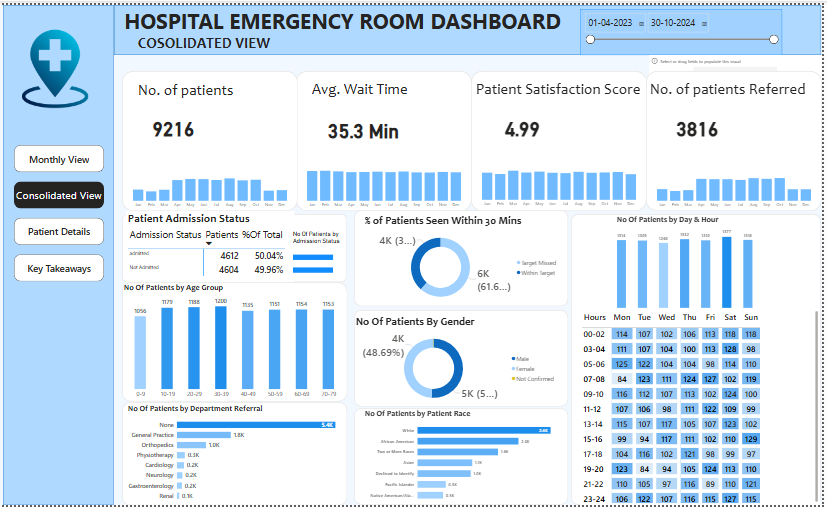

The page's visual inventory and layout, read from the dashboard file:
{"tool":"powerbi","page":{"name":"Consolidated View","canvas":[2300,1400],"ordinal":1},"visuals":[{"type":"shape","box":[9.1,0,310,1400.5],"z":0},{"type":"shape","box":[341.1,184.1,492,392.4],"z":0,"group":"g4"},{"type":"shape","box":[830.1,184.1,492,392.4],"z":0,"group":"g1"},{"type":"shape","box":[1319,184.1,492,392.4],"z":0,"group":"g2"},{"type":"shape","box":[1808,184.1,492,392.4],"z":0,"group":"g3"},{"type":"shape","box":[341.2,585.3,629.4,191.2],"z":0,"group":"g5"},{"type":"shape","box":[341.1,775.7,631.4,335.4],"z":0,"group":"g6"},{"type":"card","fields":{"Values":["Hospital ER_Data.No Of Patients"]},"box":[380.3,265.6,208.3,150.9],"z":1000,"group":"g4"},{"type":"card","fields":{"Values":["Hospital ER_Data.Satisfaction Score"]},"box":[1358.2,265.6,208.3,150.9],"z":1000,"group":"g2"},{"type":"card","fields":{"Values":["Hospital ER_Data.No of patients Referred"]},"box":[1847.2,265.6,208.3,150.9],"z":1000,"group":"g3"},{"type":"card","fields":{"Values":["Hospital ER_Data.Avg Wait Time"]},"box":[869.2,277.3,298.8,138.8],"z":1000,"group":"g1"},{"type":"shape","box":[1598.8,585.2,700,814.8],"z":1000},{"type":"shape","box":[319.9,0,1980.1,140],"z":2000},{"type":"textbox","box":[869.2,203.4,308,109.2],"z":2000,"group":"g1"},{"type":"textbox","box":[1328,204.9,489,84.5],"z":2000,"group":"g2"},{"type":"textbox","box":[1814,204.9,482.9,84.5],"z":2000,"group":"g3"},{"type":"textbox","box":[380.3,205.2,307.9,84.5],"z":2000,"group":"g4"},{"type":"textbox","box":[319.9,0,1279.8,90.6],"z":3000},{"type":"columnChart","fields":{"Y":["Hospital ER_Data.No Of Patients"],"Category":["Date Table.Month Name"]},"box":[353.2,440.7,470.9,135.8],"z":3000,"group":"g4"},{"type":"columnChart","fields":{"Y":["Avg(Hospital ER_Data.Patient Waittime)"],"Category":["Date Table.Month Name"]},"box":[842.2,440.7,470.9,135.8],"z":3000,"group":"g1"},{"type":"columnChart","fields":{"Category":["Date Table.Month Name"],"Y":["Hospital ER_Data.Satisfaction Score"]},"box":[1331.1,440.7,470.9,135.8],"z":3000,"group":"g2"},{"type":"columnChart","fields":{"Category":["Date Table.Month Name"],"Y":["Hospital ER_Data.No of patients Referred"]},"box":[1820.1,440.7,470.9,135.8],"z":3000,"group":"g3"},{"type":"textbox","box":[319.2,75.6,504,64.4],"z":4000},{"type":"slicer","fields":{"Values":["Date Table.Date"]},"box":[1624,11.2,565.6,128.8],"z":5000},{"type":"group","id":"g1","title":"Group 1","box":[830.1,184.1,492,392.4],"z":6000},{"type":"group","id":"g2","title":"Group 1","box":[1319,140,981,436.5],"z":7000},{"type":"group","id":"g3","title":"Group 1","box":[1808,184.1,492,392.4],"z":8000},{"type":"group","id":"g4","title":"Group 1","box":[341.1,184.1,492,392.4],"z":9000},{"type":"group","id":"g5","title":"Group 1","box":[341.2,585.3,629.4,191.2],"z":10000},{"type":"pivotTable","title":"Patient Admission Status","fields":{"Rows":["Hospital ER_Data.Admission Status"],"Values":["Hospital ER_Data.No Of Patients1","Hospital ER_Data.No Of Patients"]},"box":[352.9,576.5,470.6,200],"z":11000},{"type":"barChart","fields":{"Category":["Hospital ER_Data.Admission Status"],"Y":["Hospital ER_Data.No Of Patients"]},"box":[814.8,630,156.8,145.6],"z":12000},{"type":"group","id":"g6","title":"Group 1","box":[341.1,775.7,630.8,335],"z":13000},{"type":"clusteredColumnChart","fields":{"Category":["Hospital ER_Data.Age Group"],"Y":["Hospital ER_Data.No Of Patients"]},"box":[341.1,775.7,630.8,335],"z":14000},{"type":"shape","box":[341.1,1110.8,630.8,289.8],"z":15000},{"type":"clusteredBarChart","fields":{"Category":["Hospital ER_Data.Department Referral"],"Y":["Hospital ER_Data.No Of Patients"]},"box":[352.9,1113.1,619.1,285.5],"z":16000},{"type":"shape","box":[991.2,574.2,600,270],"z":17000},{"type":"donutChart","title":"% of Patients Seen Within 30 Mins","fields":{"Category":["Hospital ER_Data.Wait_time_Status"],"Y":["Hospital ER_Data.No Of Patients"]},"box":[1016.1,583.9,554.8,261.3],"z":18000},{"type":"shape","box":[990.3,854.8,600,271],"z":19000},{"type":"donutChart","title":"No Of Patients By Gender","fields":{"Y":["Hospital ER_Data.No Of Patients"],"Category":["Hospital ER_Data.Patient Gender"]},"box":[990.3,867.7,574.2,261.3],"z":20000},{"type":"shape","box":[990.3,1129,600,271],"z":21000},{"type":"clusteredBarChart","fields":{"Y":["Hospital ER_Data.No Of Patients"],"Category":["Hospital ER_Data.Patient Race"]},"box":[1016.4,1128.4,554.4,271.6],"z":22000},{"type":"pivotTable","fields":{"Rows":["Hospital ER_Data.Wait Time Interval"],"Columns":["Date Table.Day Name"],"Values":["Hospital ER_Data.No Of Patients"]},"box":[1624,851.2,672,548.8],"z":23000},{"type":"columnChart","title":"No Of Patients by Day & Hour","fields":{"Category":["Date Table.Day Name"],"Y":["Hospital ER_Data.No Of Patients"]},"box":[1722,585.2,392,268.8],"z":24000},{"type":"image","box":[39.2,44.8,229.6,268.8],"z":25000},{"type":"pageNavigator","box":[39.2,392,252,383.6],"z":26000},{"type":"columnChart","box":[1817,140,483,195],"z":27001,"group":"g2"}]}

Visuals, with their boxes in screenshot pixels (x1, y1, x2, y2), scaled from the page's 2300x1400 canvas onto the 827x509 screenshot:
shape: [3, 0, 115, 508]
shape: [123, 67, 300, 210]
shape: [298, 67, 475, 210]
shape: [474, 67, 651, 210]
shape: [650, 67, 826, 210]
shape: [123, 213, 349, 282]
shape: [123, 282, 350, 404]
card - Hospital ER_Data.No Of Patients: [137, 97, 212, 151]
card - Hospital ER_Data.Satisfaction Score: [488, 97, 563, 151]
card - Hospital ER_Data.No of patients Referred: [664, 97, 739, 151]
card - Hospital ER_Data.Avg Wait Time: [313, 101, 420, 151]
shape: [575, 213, 826, 508]
shape: [115, 0, 826, 51]
textbox: [313, 74, 423, 114]
textbox: [478, 74, 653, 105]
textbox: [652, 74, 826, 105]
textbox: [137, 75, 247, 105]
textbox: [115, 0, 575, 33]
columnChart - Hospital ER_Data.No Of Patients x Date Table.Month Name: [127, 160, 296, 210]
columnChart - Avg(Hospital ER_Data.Patient Waittime) x Date Table.Month Name: [303, 160, 472, 210]
columnChart - Date Table.Month Name x Hospital ER_Data.Satisfaction Score: [479, 160, 648, 210]
columnChart - Date Table.Month Name x Hospital ER_Data.No of patients Referred: [654, 160, 824, 210]
textbox: [115, 27, 296, 51]
slicer - Date Table.Date: [584, 4, 787, 51]
"Group 1" group: [298, 67, 475, 210]
"Group 1" group: [474, 51, 826, 210]
"Group 1" group: [650, 67, 826, 210]
"Group 1" group: [123, 67, 300, 210]
"Group 1" group: [123, 213, 349, 282]
"Patient Admission Status" pivotTable: [127, 210, 296, 282]
barChart - Hospital ER_Data.Admission Status x Hospital ER_Data.No Of Patients: [293, 229, 349, 282]
"Group 1" group: [123, 282, 349, 404]
clusteredColumnChart - Hospital ER_Data.Age Group x Hospital ER_Data.No Of Patients: [123, 282, 349, 404]
shape: [123, 404, 349, 508]
clusteredBarChart - Hospital ER_Data.Department Referral x Hospital ER_Data.No Of Patients: [127, 405, 349, 508]
shape: [356, 209, 572, 307]
"% of Patients Seen Within 30 Mins" donutChart: [365, 212, 565, 307]
shape: [356, 311, 572, 409]
"No Of Patients By Gender" donutChart: [356, 315, 563, 410]
shape: [356, 410, 572, 508]
clusteredBarChart - Hospital ER_Data.No Of Patients x Hospital ER_Data.Patient Race: [365, 410, 565, 508]
pivotTable - Hospital ER_Data.Wait Time Interval x Date Table.Day Name: [584, 309, 826, 508]
"No Of Patients by Day & Hour" columnChart: [619, 213, 760, 310]
image: [14, 16, 97, 114]
pageNavigator: [14, 143, 105, 282]
columnChart: [653, 51, 826, 122]
